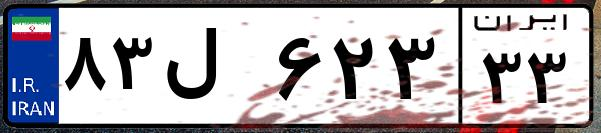2: (330, 28, 385, 110)
3: (385, 28, 445, 110), (475, 38, 525, 113), (525, 38, 570, 115), (110, 28, 158, 98)
6: (270, 28, 330, 110)
8: (57, 26, 110, 100)
ل: (158, 20, 270, 120)
